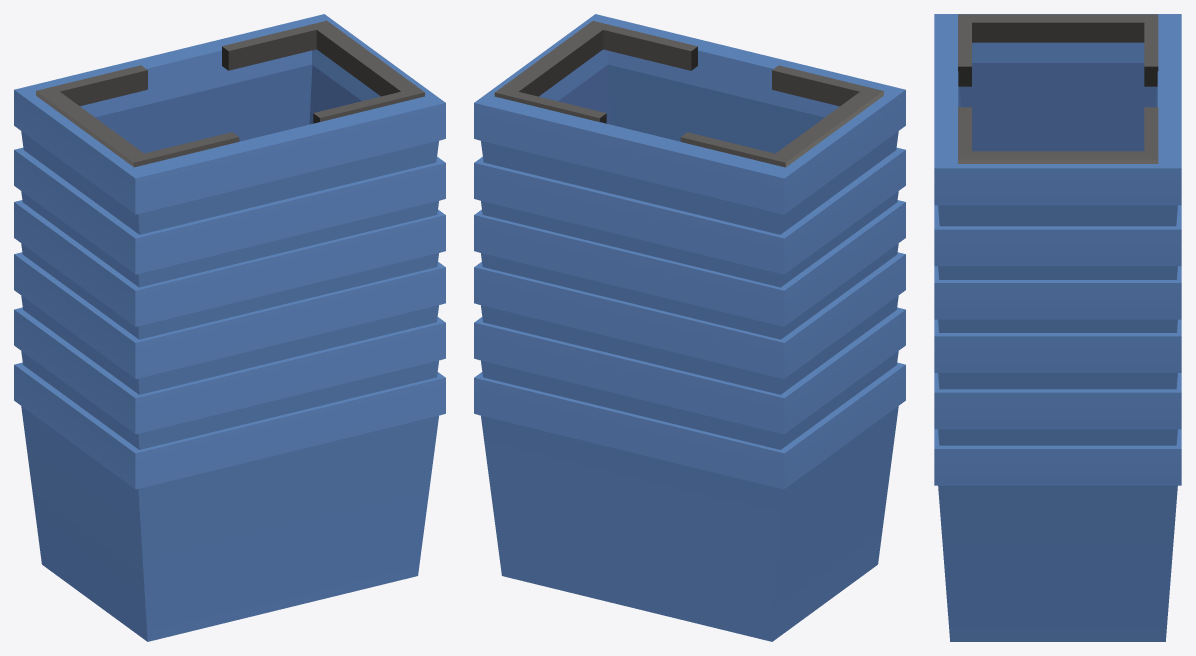
Rendered from BasketStack.glb.
3 views of the same model, side by side, from view 1: azimuth 30°, elevation 25°; view 2: azimuth 150°, elevation 25°; view 3: azimuth 270°, elevation 25° (orthographic).
Visible parts, largest first — view 1: SI_Prop_Basket_Stack_01; view 2: SI_Prop_Basket_Stack_01; view 3: SI_Prop_Basket_Stack_01.
Part boxes in pixels (x1,y1,x2,y2): SI_Prop_Basket_Stack_01: (14, 14, 445, 641); SI_Prop_Basket_Stack_01: (474, 14, 905, 641); SI_Prop_Basket_Stack_01: (934, 14, 1181, 641).
Size of the model in its own units: 0.0104 by 0.0154 by 0.00706.
1 material, 1 textured.
